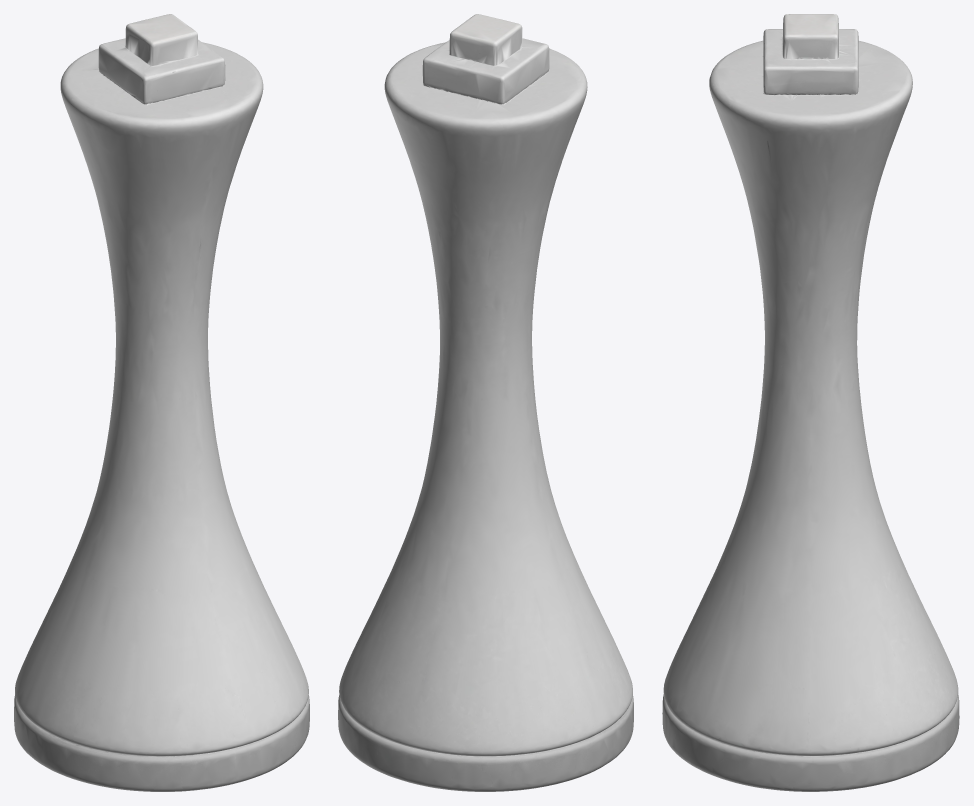
The model's file is king-white-hd.glb.
The picture shows the model from 3 angles, left to right: view 1: azimuth 30°, elevation 25°; view 2: azimuth 150°, elevation 25°; view 3: azimuth 270°, elevation 25°; orthographic projection.
Bounding box in the file's own units: 0.5895 × 1.55 × 0.5893.
1 material, 1 textured.
